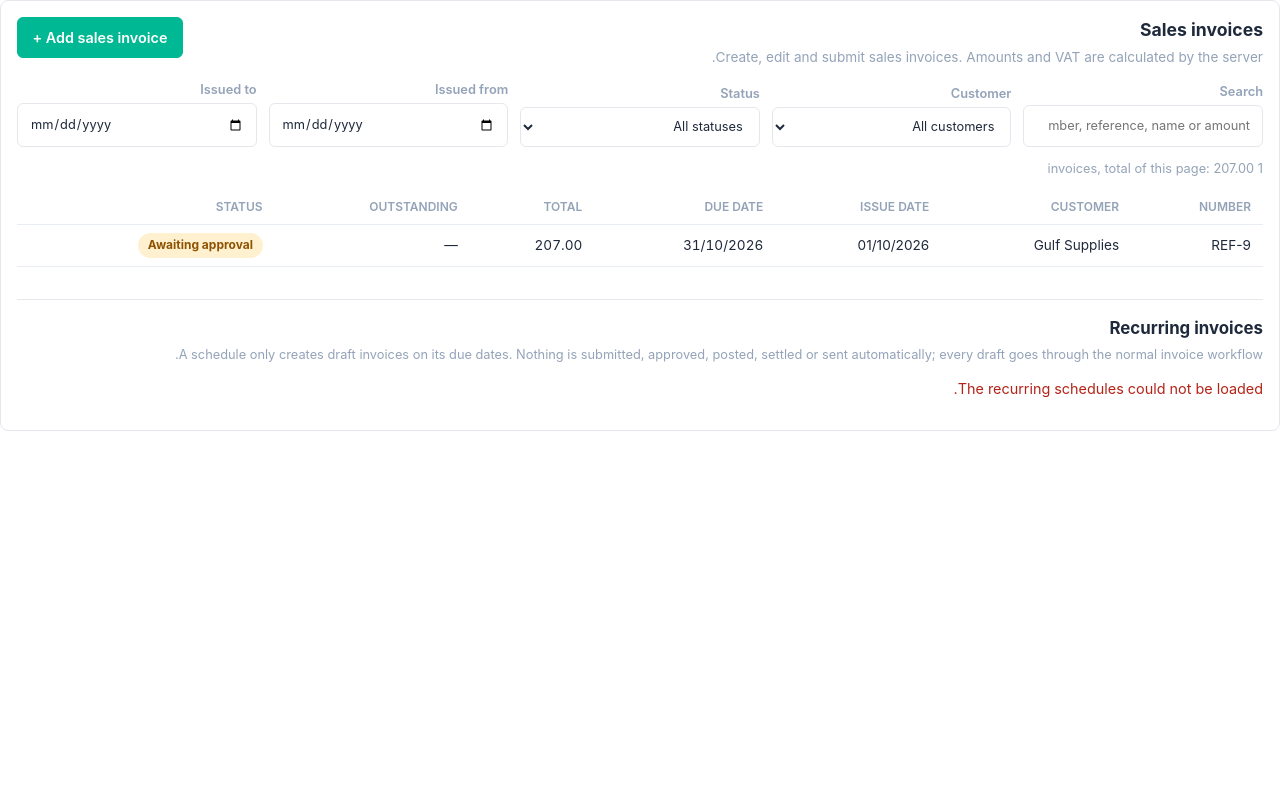
Scenario: Invoice details dialog layout › shows the summary header and the three sections for a submitted invoice
Click the text "REF-9": (1197, 245) [1131,225,1263,266]
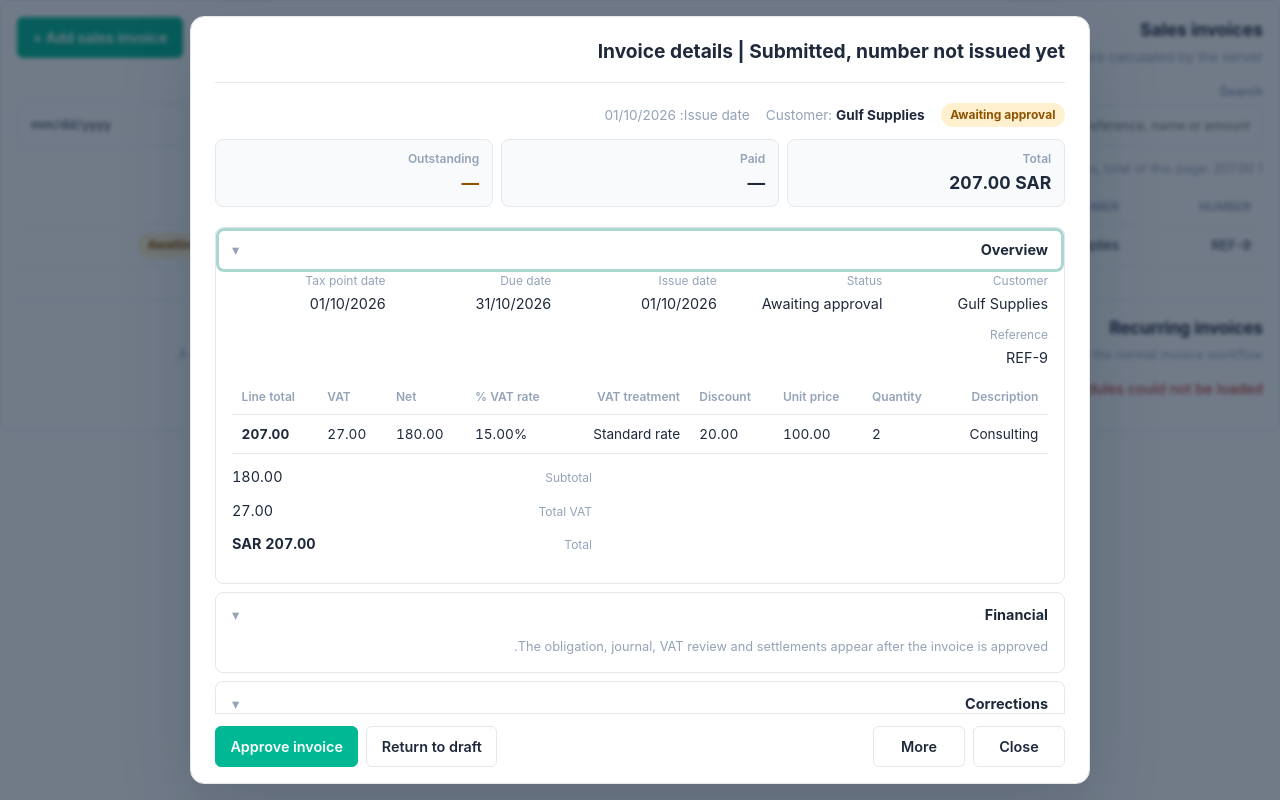
Now the element named "Invoice summary" shows "Awaiting approval", box [950,107,1055,122]
Now the element named "Invoice summary" shows "Gulf Supplies", box [836,107,925,123]
Now the element named "Invoice summary" shows "01/10/2026", box [604,107,676,123]
